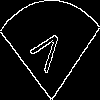V: (25, 25, 65, 81)
